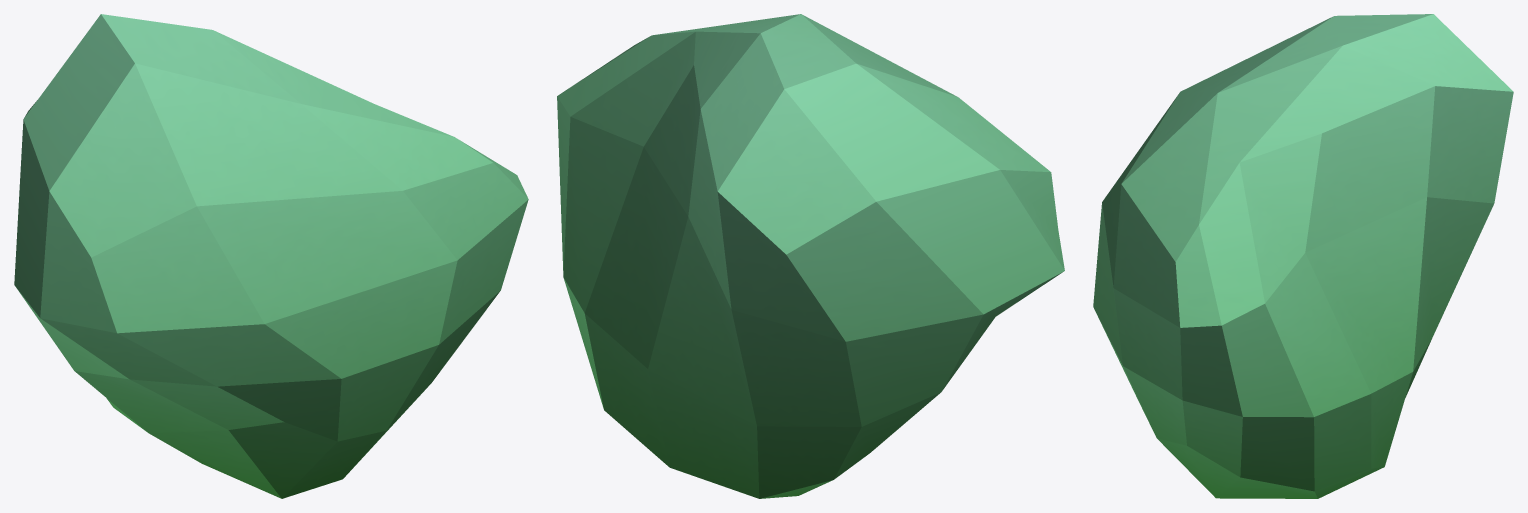
Rendered from arbusto2.fbx.
3 renders of one model, left to right at view 1: azimuth 30°, elevation 25°; view 2: azimuth 150°, elevation 25°; view 3: azimuth 270°, elevation 25°, orthographic. The views are drawn at different scales.
Visible parts, largest first — view 1: arbusto2; view 2: arbusto2; view 3: arbusto2.
Part boxes in pixels (x1,y1,x2,y2): arbusto2: [14, 14, 528, 498]; arbusto2: [557, 14, 1064, 498]; arbusto2: [1093, 14, 1513, 498].
Size of the model in its own units: 86.41 by 74.2 by 67.23.
1 material, 1 textured.
